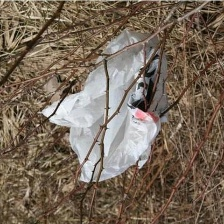plastic_bag: (37, 23, 175, 185)
